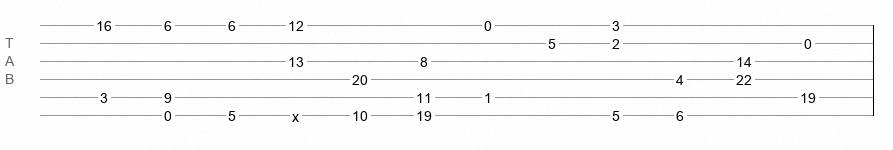0: (164, 108, 172, 118), (484, 18, 492, 28), (804, 36, 812, 46)
1: (484, 90, 492, 100)
10: (352, 108, 368, 118)
11: (416, 90, 432, 100)
12: (288, 18, 304, 28)
13: (288, 54, 304, 64)
14: (736, 54, 752, 64)
16: (96, 18, 112, 28)
19: (416, 108, 432, 118), (800, 90, 816, 100)
2: (612, 36, 620, 46)
20: (352, 72, 368, 82)
22: (736, 72, 752, 82)
3: (100, 90, 108, 100), (612, 18, 620, 28)
4: (676, 72, 684, 82)
5: (228, 108, 236, 118), (548, 36, 556, 46), (612, 108, 620, 118)
6: (164, 18, 172, 28), (228, 18, 236, 28), (676, 108, 684, 118)
8: (420, 54, 428, 64)
9: (164, 90, 172, 100)
x: (292, 109, 299, 117)
